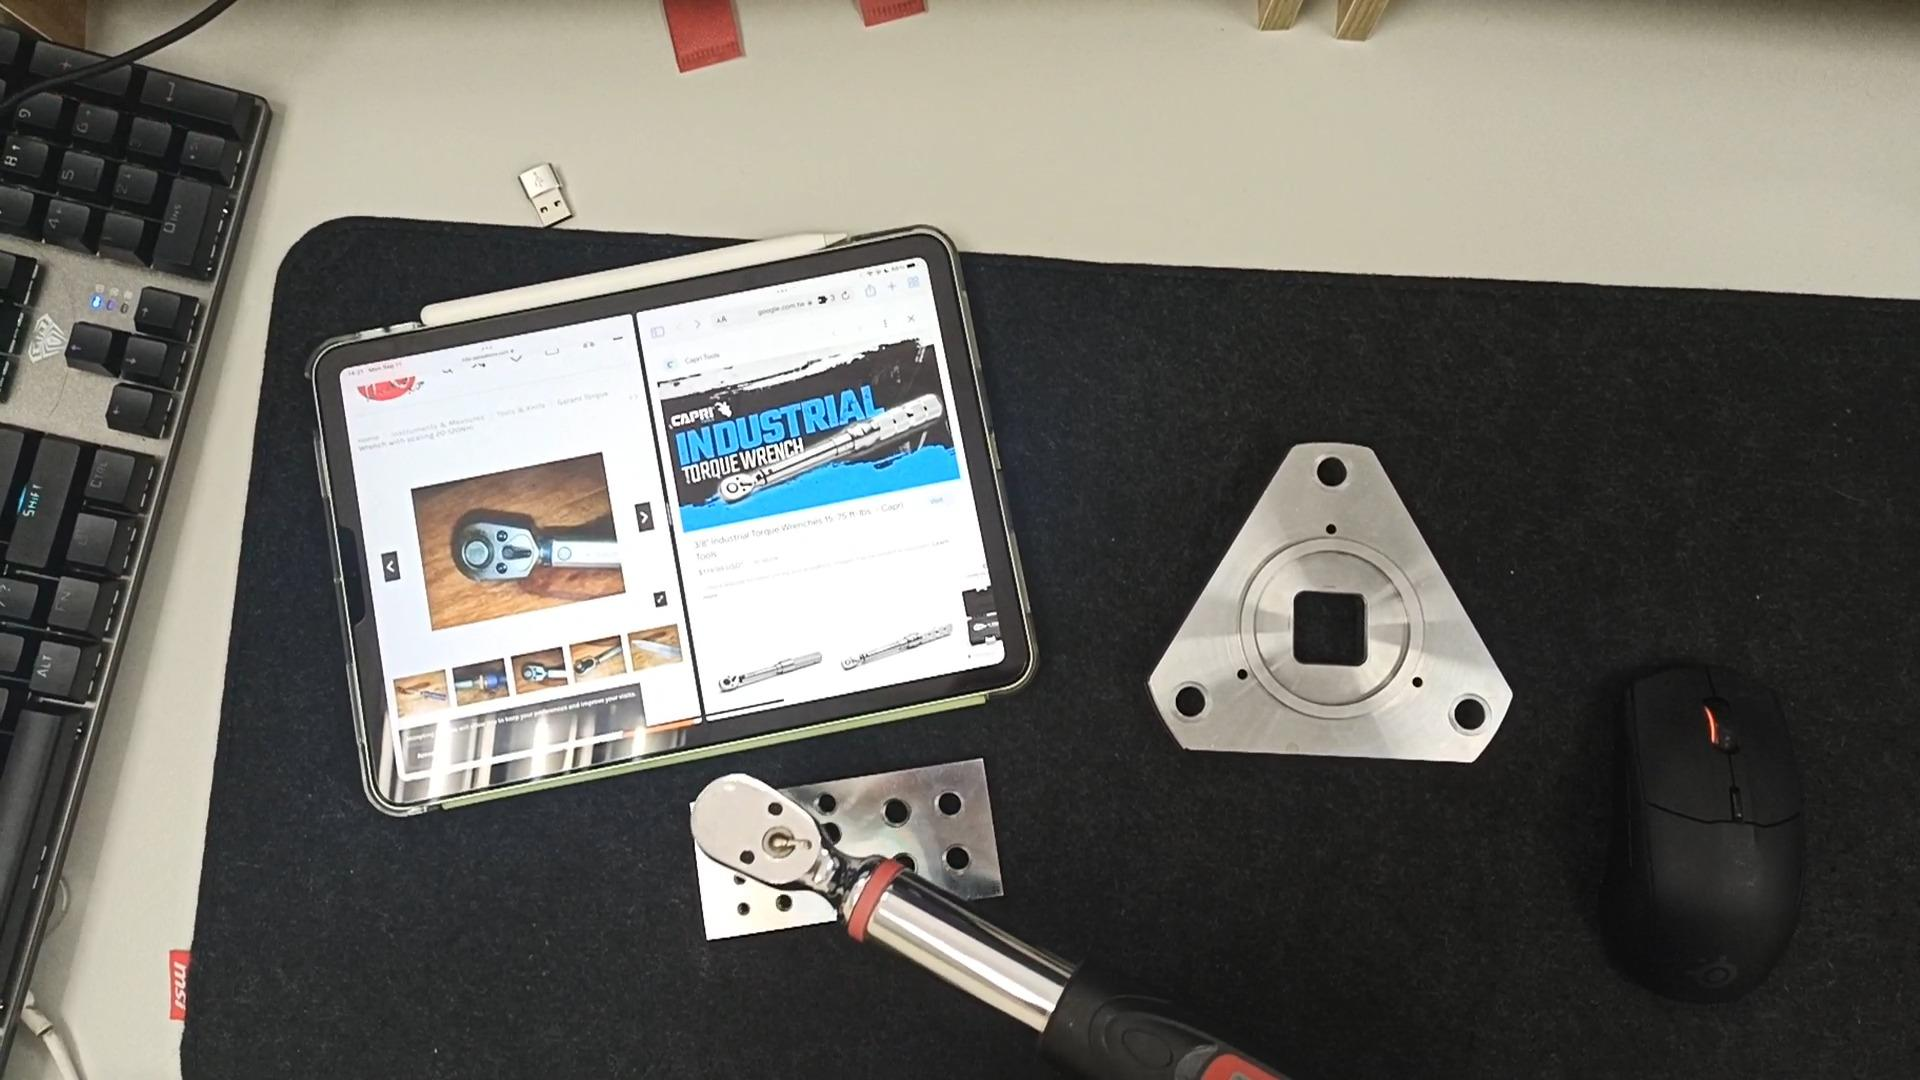Tool: (688, 778, 878, 924), (451, 520, 543, 582), (721, 469, 761, 501)
hole: (1433, 698, 1501, 746), (1302, 455, 1364, 497), (1158, 686, 1217, 729), (857, 794, 918, 831), (918, 790, 975, 824), (924, 843, 980, 876), (794, 789, 847, 822), (799, 818, 851, 848), (886, 852, 920, 877), (764, 895, 799, 915), (719, 902, 750, 919), (717, 873, 748, 889)
